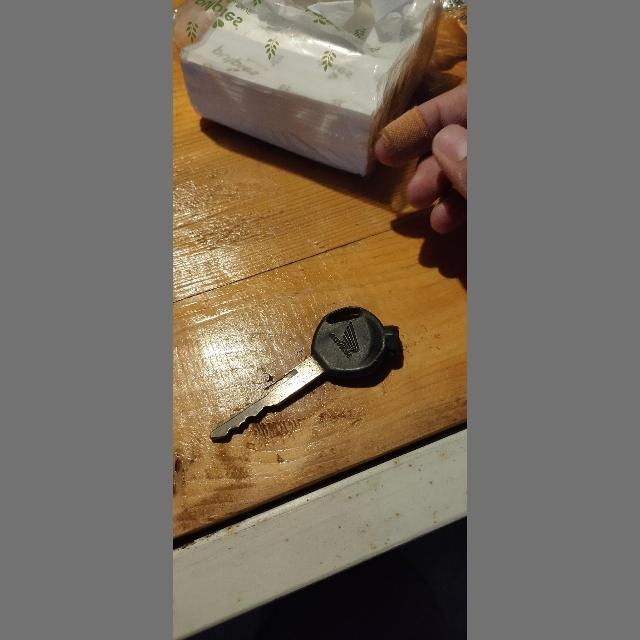Keys: (200, 298, 412, 446)
